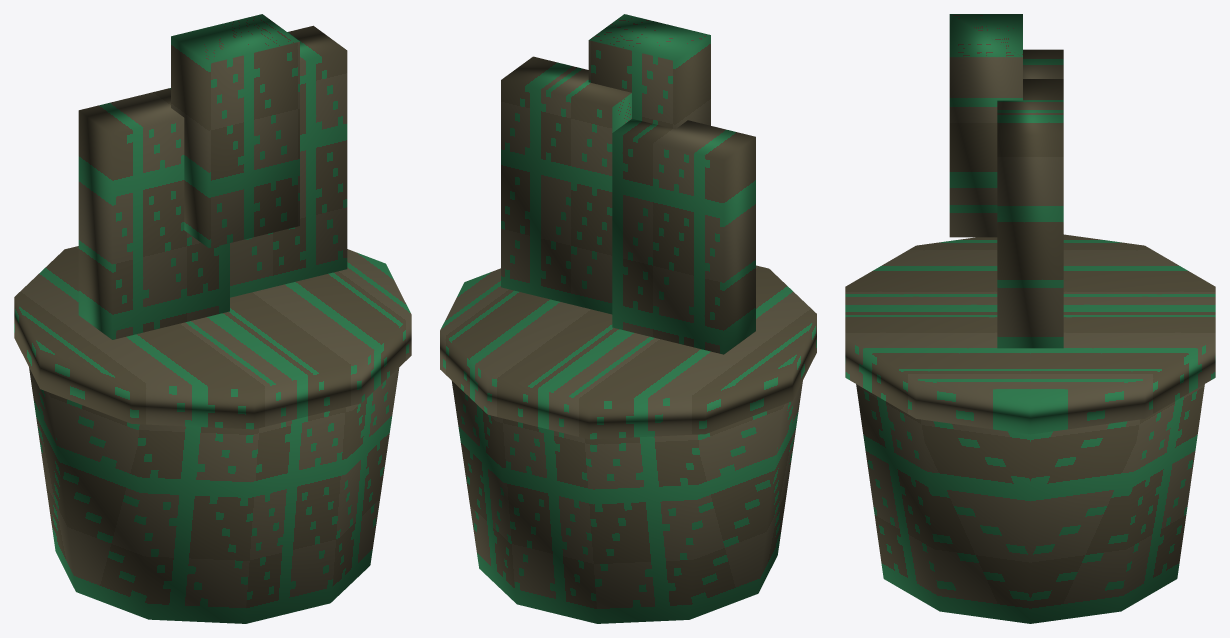
The model's file is SM_Prop_CairoPlanter_A_LOD1.obj.
3 renders of one model, left to right at view 1: azimuth 30°, elevation 25°; view 2: azimuth 150°, elevation 25°; view 3: azimuth 270°, elevation 25°, orthographic. The views are drawn at different scales.
Parts seen in each view (by area): view 1: SM_Prop_CairoPlanter_A_LOD1; view 2: SM_Prop_CairoPlanter_A_LOD1; view 3: SM_Prop_CairoPlanter_A_LOD1.
Boxes of the visible parts, left/top/right/bottom form: SM_Prop_CairoPlanter_A_LOD1: left=14, top=14, right=411, bottom=623; SM_Prop_CairoPlanter_A_LOD1: left=440, top=14, right=816, bottom=623; SM_Prop_CairoPlanter_A_LOD1: left=845, top=14, right=1215, bottom=623.
Bounding box in the file's own units: 1.06 × 1.57 × 1.01.
Materials: 1 (1 with a texture image).
